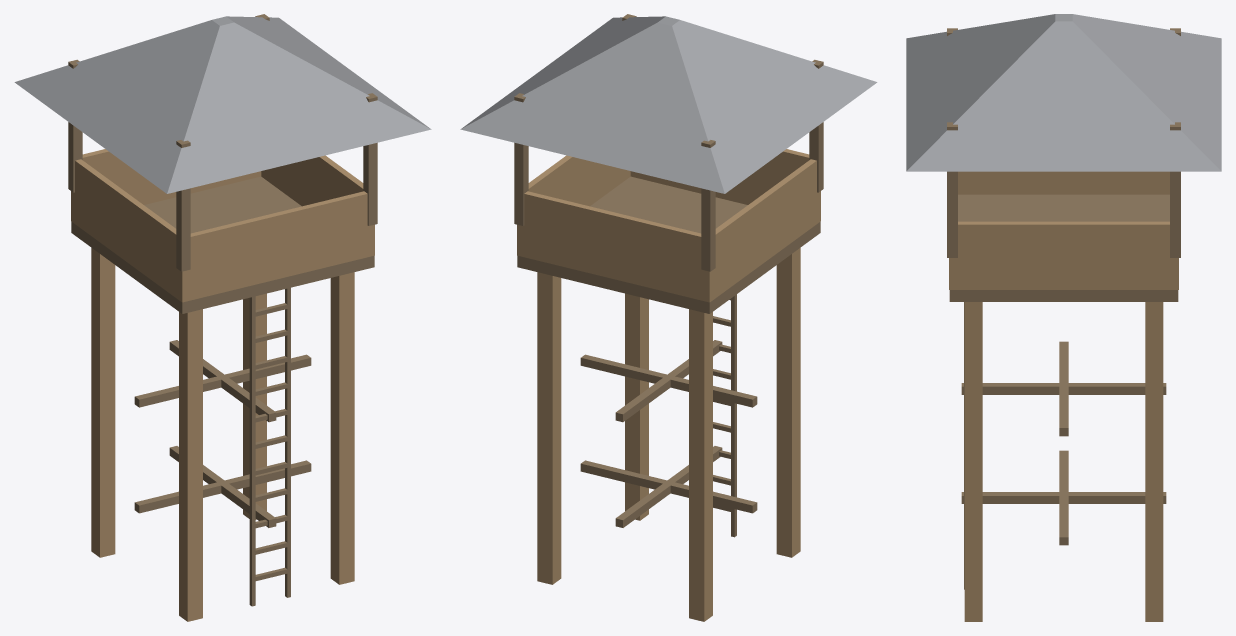
The model's file is watchtower.glb.
3 views of the same model, side by side, from view 1: azimuth 30°, elevation 25°; view 2: azimuth 150°, elevation 25°; view 3: azimuth 270°, elevation 25° (orthographic). The views are drawn at different scales.
Parts seen in each view (by area): view 1: Watchtower; view 2: Watchtower; view 3: Watchtower.
Part boxes in pixels (box(x1,y1,x2,y2)): Watchtower: box(14, 14, 431, 621); Watchtower: box(460, 14, 877, 621); Watchtower: box(906, 14, 1221, 621).
Bounding box in the file's own units: 5.23 × 10.3 × 5.23.
